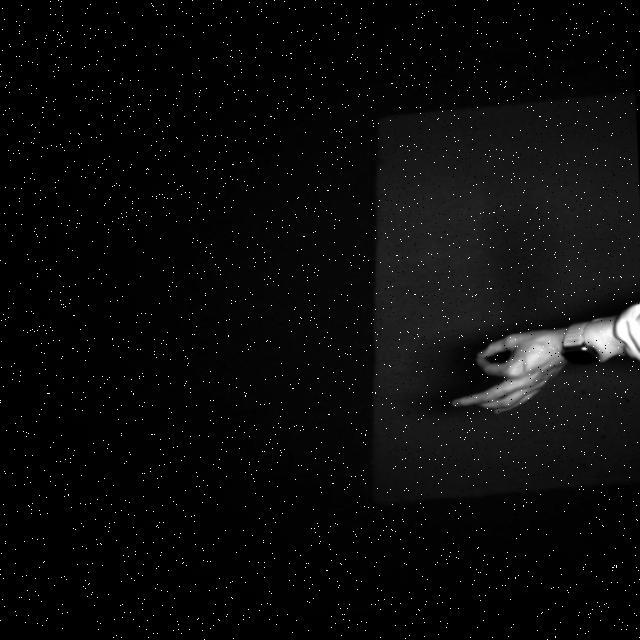no-gloves: (439, 318, 574, 429)
